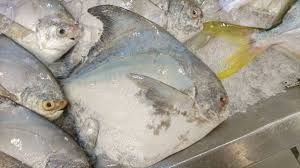Ikan Bawal: (48, 10, 243, 166)
